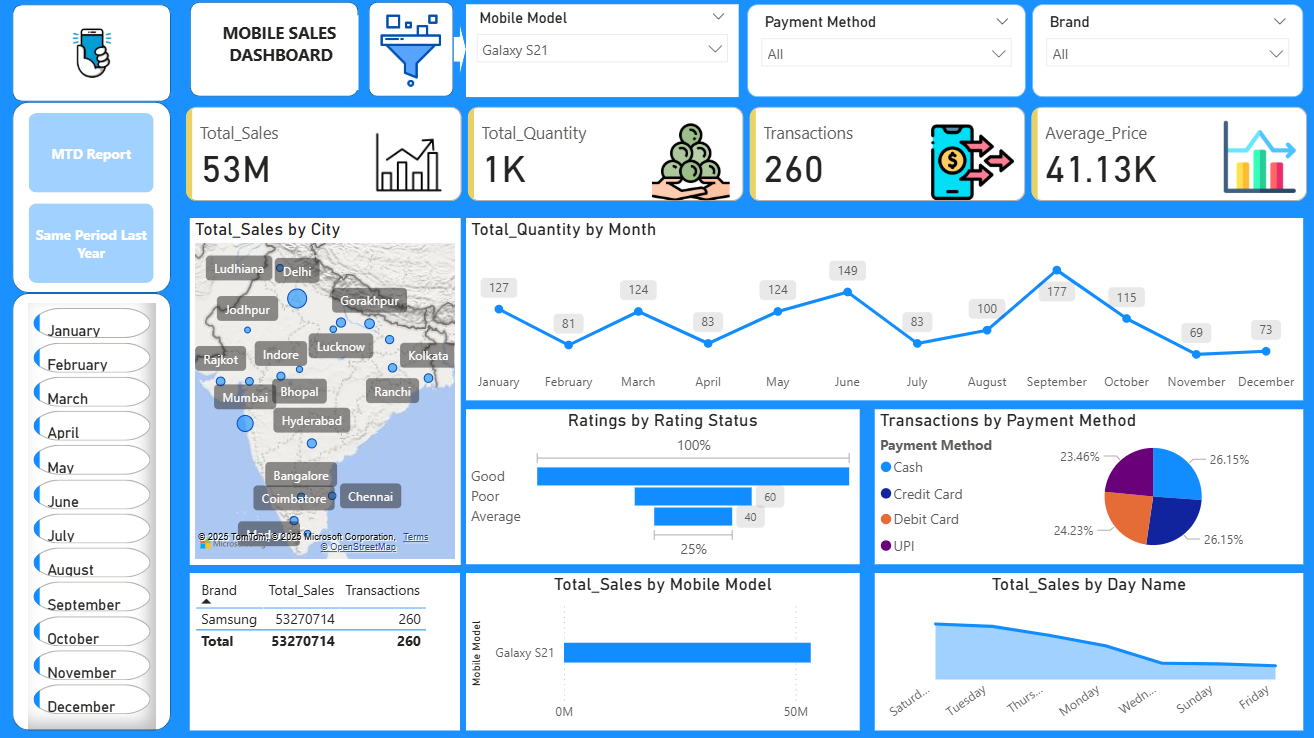

Layout of this report page (visuals, bound fields, positions):
{"tool":"powerbi","page":{"name":"Dashboard","canvas":[1280,720],"ordinal":0},"visuals":[{"type":"shape","box":[15.7,10.9,153.2,94.1],"z":0},{"type":"image","box":[56.7,21.7,72.4,72.4],"z":1000},{"type":"shape","box":[15.7,105,153.2,184.6],"z":2000},{"type":"shape","box":[15.7,289.5,153.2,422.3],"z":3000},{"type":"advancedSlicerVisual","fields":{"Values":["Custom_Calendar.Date.Variation.Date Hierarchy.Month"]},"box":[31.4,299.2,123.1,412.6],"z":4000},{"type":"cardVisual","fields":{"Data":["Sales_Data.Total_Sales","Sales_Data.Total_Quantity","Sales_Data.Transactions","Sales_Data.Average_Price"]},"box":[178.6,105,1093,101.3],"z":5000},{"type":"slicer","fields":{"Values":["Sales_Data.Mobile Model"]},"box":[453.6,10.9,263,89.3],"z":6000},{"type":"slicer","fields":{"Values":["Sales_Data.Payment Method"]},"box":[725.1,10.9,269,89.3],"z":7000},{"type":"slicer","fields":{"Values":["Sales_Data.Brand"]},"box":[1000.1,10.9,261.8,89.3],"z":8000},{"type":"shape","box":[359.5,8.4,82,91.7],"z":9000},{"type":"image","box":[359.5,10.9,82,89.3],"z":10000},{"type":"shape","box":[441.6,30.2,12.1,48.3],"z":11000},{"type":"shape","box":[187,8.4,162.9,91.7],"z":12000},{"type":"textbox","box":[200.3,21.7,149.6,72.4],"z":13000},{"type":"map","fields":{"Category":["Sales_Data.City"],"Size":["Sales_Data.Total_Sales"]},"box":[187,217.2,260.6,334.2],"z":14000},{"type":"lineChart","fields":{"Category":["Custom_Calendar.Date.Variation.Date Hierarchy.Month"],"Y":["Sales_Data.Total_Quantity"]},"box":[453.6,217.2,808.3,176.1],"z":15000},{"type":"funnel","title":"  Ratings by Rating Status","fields":{"Y":["CountNonNull(Sales_Data.Customer Ratings)"],"Category":["Sales_Data.Rating Status"]},"box":[453.6,401.7,380,149.6],"z":16000},{"type":"pieChart","fields":{"Category":["Sales_Data.Payment Method"],"Y":["Sales_Data.Transactions"]},"box":[848.1,401.7,413.8,149.6],"z":17000},{"type":"clusteredBarChart","fields":{"Y":["Sales_Data.Total_Sales"],"Category":["Sales_Data.Mobile Model"]},"box":[453.6,559.8,380,152],"z":18000},{"type":"areaChart","fields":{"Y":["Sales_Data.Total_Sales"],"Category":["Custom_Calendar.Day Name"]},"box":[848.1,559.8,413.8,152],"z":19000},{"type":"tableEx","fields":{"Values":["Sales_Data.Brand","Sales_Data.Total_Sales","Sales_Data.Transactions"]},"box":[187,559.8,260.6,152],"z":20000},{"type":"pageNavigator","box":[31.4,115.8,121.9,164.1],"z":20001}]}

Visuals, with their boxes in screenshot pixels (x1, y1, x2, y2), scaled from the page's 1280x720 canvas onto the 1314x738 screenshot:
shape: {"x1": 16, "y1": 11, "x2": 173, "y2": 108}
image: {"x1": 58, "y1": 22, "x2": 133, "y2": 96}
shape: {"x1": 16, "y1": 108, "x2": 173, "y2": 297}
shape: {"x1": 16, "y1": 297, "x2": 173, "y2": 730}
advancedSlicerVisual - Custom_Calendar.Date.Variation.Date Hierarchy.Month: {"x1": 32, "y1": 307, "x2": 159, "y2": 730}
cardVisual - Sales_Data.Total_Sales x Sales_Data.Total_Quantity: {"x1": 183, "y1": 108, "x2": 1305, "y2": 211}
slicer - Sales_Data.Mobile Model: {"x1": 466, "y1": 11, "x2": 736, "y2": 103}
slicer - Sales_Data.Payment Method: {"x1": 744, "y1": 11, "x2": 1021, "y2": 103}
slicer - Sales_Data.Brand: {"x1": 1027, "y1": 11, "x2": 1295, "y2": 103}
shape: {"x1": 369, "y1": 9, "x2": 453, "y2": 103}
image: {"x1": 369, "y1": 11, "x2": 453, "y2": 103}
shape: {"x1": 453, "y1": 31, "x2": 466, "y2": 80}
shape: {"x1": 192, "y1": 9, "x2": 359, "y2": 103}
textbox: {"x1": 206, "y1": 22, "x2": 359, "y2": 96}
map - Sales_Data.City x Sales_Data.Total_Sales: {"x1": 192, "y1": 223, "x2": 459, "y2": 565}
lineChart - Custom_Calendar.Date.Variation.Date Hierarchy.Month x Sales_Data.Total_Quantity: {"x1": 466, "y1": 223, "x2": 1295, "y2": 403}
"  Ratings by Rating Status" funnel: {"x1": 466, "y1": 412, "x2": 856, "y2": 565}
pieChart - Sales_Data.Payment Method x Sales_Data.Transactions: {"x1": 871, "y1": 412, "x2": 1295, "y2": 565}
clusteredBarChart - Sales_Data.Total_Sales x Sales_Data.Mobile Model: {"x1": 466, "y1": 574, "x2": 856, "y2": 730}
areaChart - Sales_Data.Total_Sales x Custom_Calendar.Day Name: {"x1": 871, "y1": 574, "x2": 1295, "y2": 730}
tableEx - Sales_Data.Brand x Sales_Data.Total_Sales: {"x1": 192, "y1": 574, "x2": 459, "y2": 730}
pageNavigator: {"x1": 32, "y1": 119, "x2": 157, "y2": 287}
